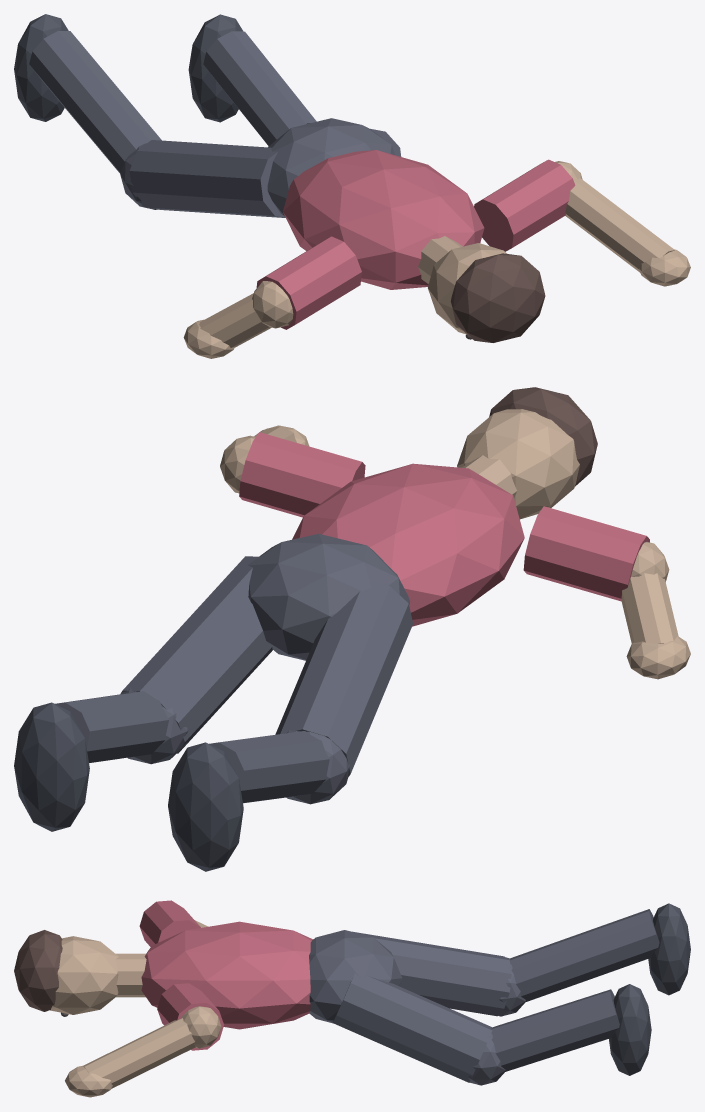
The picture shows the model from 3 angles, top to bottom: view 1: azimuth 30°, elevation 25°; view 2: azimuth 150°, elevation 25°; view 3: azimuth 270°, elevation 25°; orthographic projection. The views are drawn at different scales.
Visible parts, largest first — view 1: world; view 2: world; view 3: world.
Boxes of the visible parts, bbox=[...] form: world: bbox=[14, 14, 690, 358]; world: bbox=[14, 387, 690, 871]; world: bbox=[14, 900, 690, 1097].
Size of the model in its own units: 1.25 by 0.3942 by 2.
